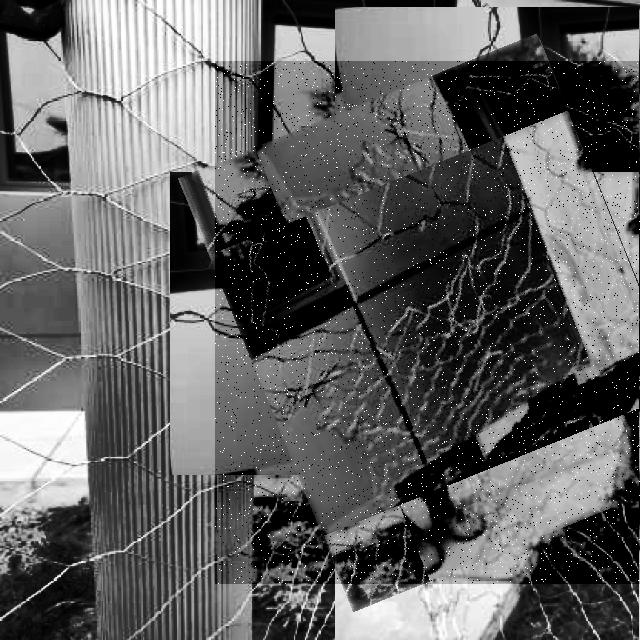anomaly-fence: (215, 61, 640, 584)
